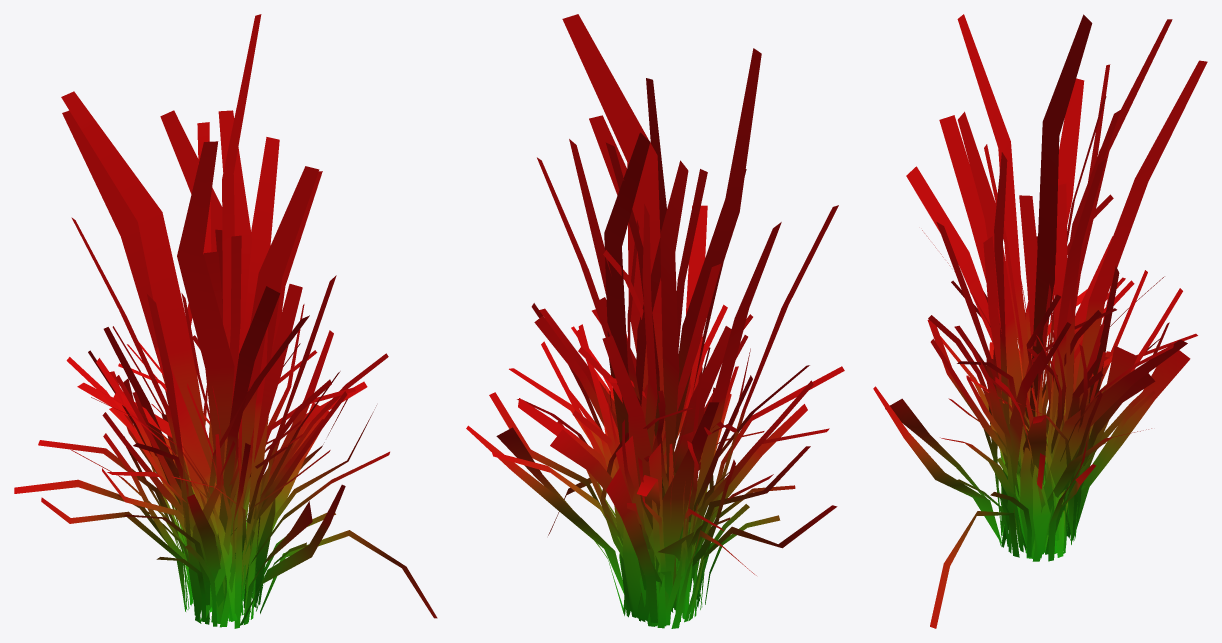
The model's file is Var6_LOD2.fbx.
3 renders of one model, left to right at view 1: azimuth 30°, elevation 25°; view 2: azimuth 150°, elevation 25°; view 3: azimuth 270°, elevation 25°, orthographic. The views are drawn at different scales.
Parts seen in each view (by area): view 1: _c583_Var6_LOD2; view 2: _c583_Var6_LOD2; view 3: _c583_Var6_LOD2.
Part boxes in pixels (x1=…): _c583_Var6_LOD2: x1=14, y1=14, x2=437, y2=628; _c583_Var6_LOD2: x1=466, y1=14, x2=844, y2=628; _c583_Var6_LOD2: x1=873, y1=14, x2=1207, y2=628.
Bounding box in the file's own units: 58.6 × 96.27 × 51.7.
